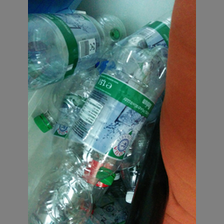water: (27, 46, 166, 224), (28, 11, 129, 90)
